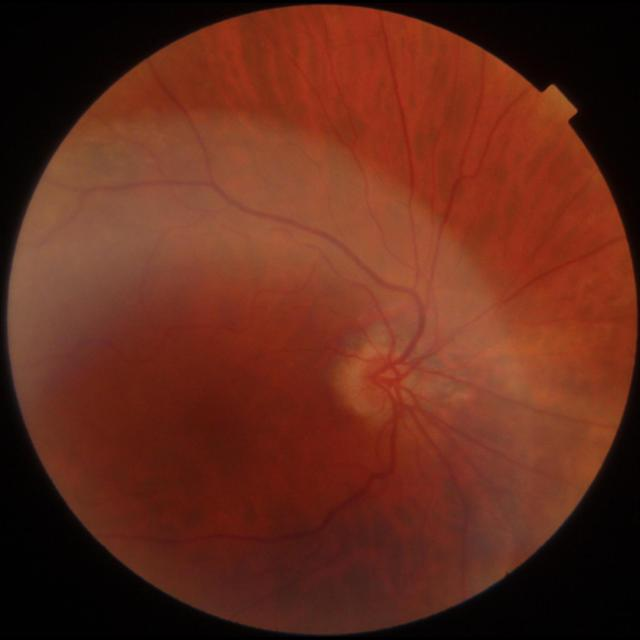OD: (346, 346, 420, 418)
